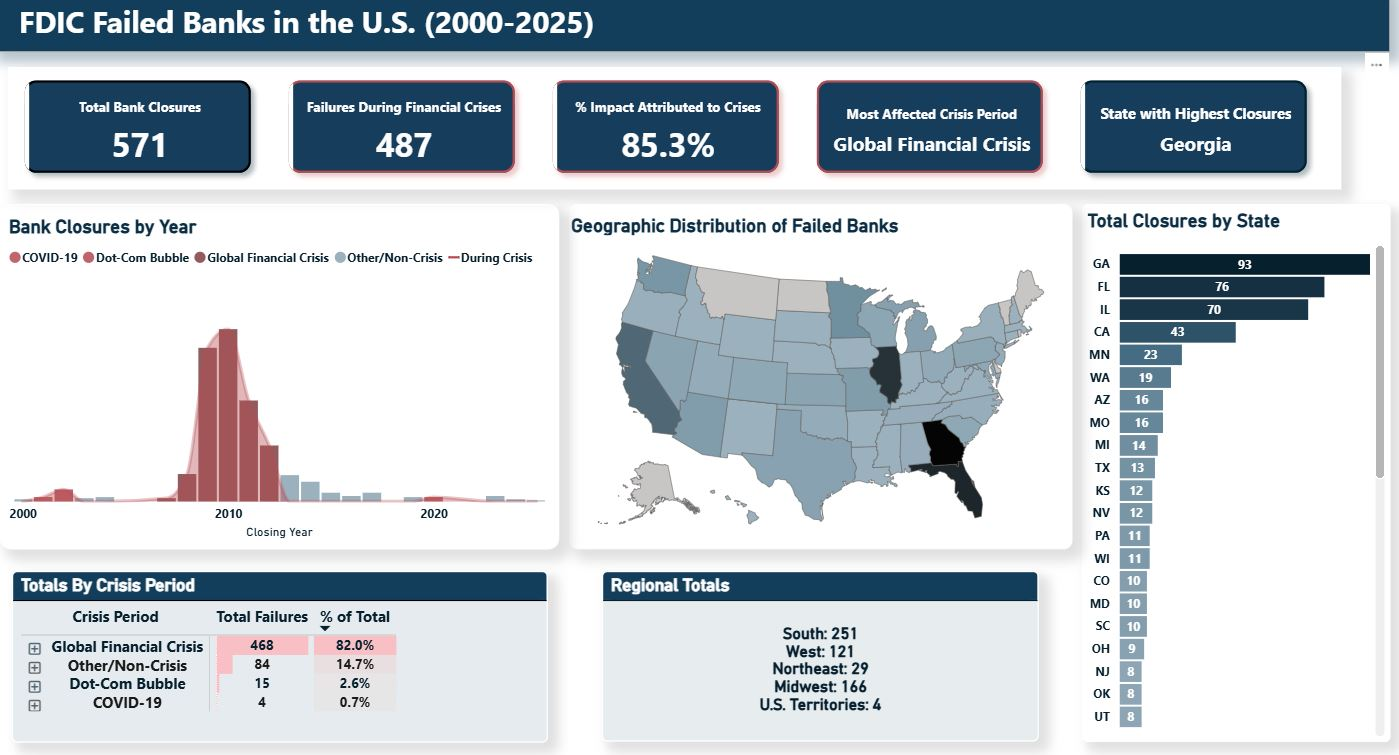

Layout of this report page (visuals, bound fields, positions):
{"tool":"powerbi","page":{"name":"Summary","canvas":[1280,720],"ordinal":0},"visuals":[{"type":"shape","box":[0,0,1255.1,58.4],"z":0},{"type":"cardVisual","fields":{"Data":["FailedBanks.Total Failed Banks","FailedBanks.TotalFailuresDuringCrisis","FailedBanks.Crisis Impact %","Crisis Periods.Max Failures Crisis Period","Crisis Periods.Top Failed State"]},"box":[14.6,71.8,1196.7,110.4],"z":1000},{"type":"barChart","title":"Total Closures by State","fields":{"Category":["FailedBanks.State"],"Y":["FailedBanks.Total Failures"]},"box":[978.6,194.8,276.5,483],"z":2000},{"type":"shapeMap","title":"Geographic Distribution of Failed Banks","fields":{"Category":["StateLookup.StateFullName"],"Value":["FailedBanks.Total No. of Failed Banks"]},"box":[517.9,194.8,452.5,309.7],"z":3000},{"type":"lineStackedColumnComboChart","title":"Bank Closures by Year ","fields":{"Category":["DateTable.Year"],"Y":["FailedBanks.Total No. of Failed Banks"],"Y2":["FailedBanks.TotalFailuresDuringCrisis"],"Series":["Crisis Periods.Crisis Period"]},"box":[7.3,194.8,501.8,309.7],"z":4000},{"type":"pivotTable","title":"Totals By Crisis Period","fields":{"Values":["FailedBanks.Total Failures","Crisis Periods.% of Total Failures"],"Rows":["Crisis Periods.Crisis Period","DateTable.Year"]},"box":[17.6,524.3,481.2,153.5],"z":5000},{"type":"card","title":"Regional Totals","fields":{"Values":["Crisis Periods.Region Totals Summary"]},"box":[548,524.7,392.3,152.6],"z":6000}]}

Visuals, with their boxes on the page's 1280x720 design canvas (x1, y1, x2, y2). These are canvas units, not pixel positions in the 1399x755 screenshot, which may show the page scaled, cropped or inside an application window:
shape: bbox=[0, 0, 1255, 58]
cardVisual - FailedBanks.Total Failed Banks x FailedBanks.TotalFailuresDuringCrisis: bbox=[15, 72, 1211, 182]
"Total Closures by State" barChart: bbox=[979, 195, 1255, 678]
"Geographic Distribution of Failed Banks" shapeMap: bbox=[518, 195, 970, 504]
"Bank Closures by Year " lineStackedColumnComboChart: bbox=[7, 195, 509, 504]
"Totals By Crisis Period" pivotTable: bbox=[18, 524, 499, 678]
"Regional Totals" card: bbox=[548, 525, 940, 677]
